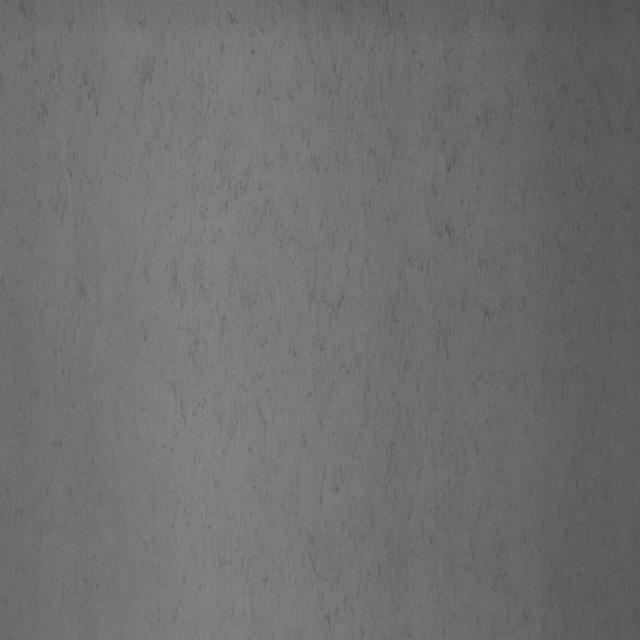inclusion: (180, 7, 508, 430)
